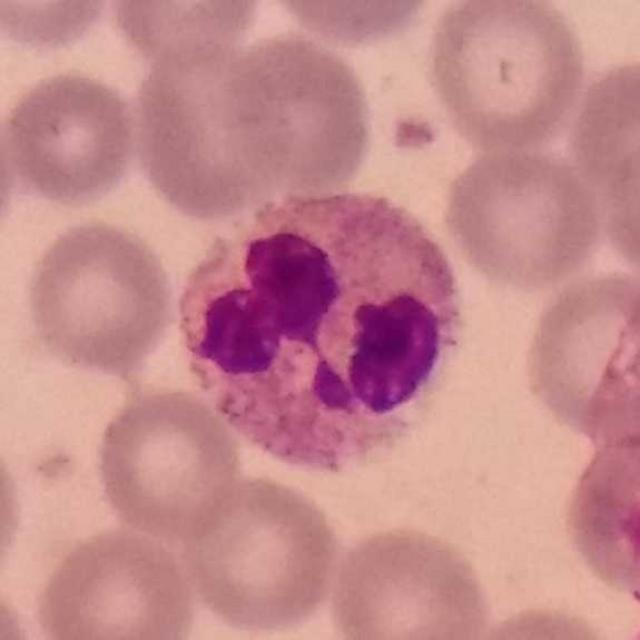Neutrophil: (172, 183, 484, 488)
Platelets: (383, 105, 449, 166)
RBC: (126, 34, 297, 222), (215, 27, 379, 199), (177, 471, 344, 638), (19, 215, 180, 377), (420, 1, 590, 153), (438, 142, 606, 293), (89, 384, 247, 543), (516, 265, 640, 444), (324, 520, 495, 640), (1, 66, 143, 210), (30, 522, 199, 640), (557, 422, 640, 605), (562, 52, 640, 205), (106, 0, 269, 65), (259, 0, 443, 48), (596, 119, 640, 287), (455, 600, 630, 640), (1, 0, 117, 55), (0, 429, 28, 601), (0, 99, 19, 259), (0, 579, 45, 640)
